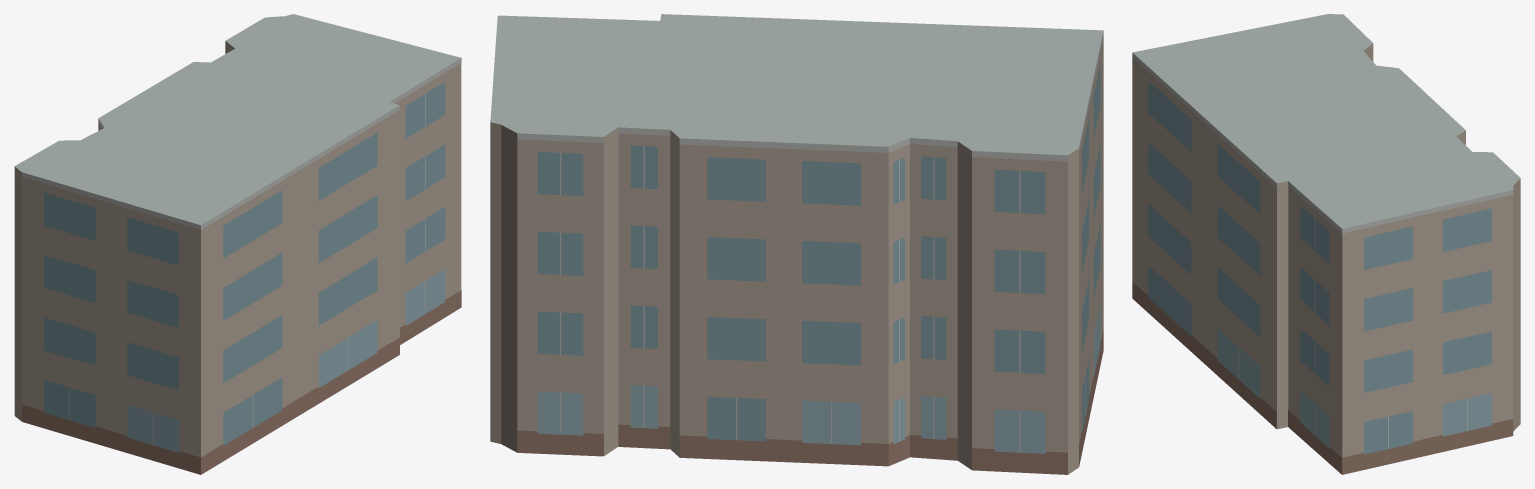
File: survey-upis-32606359.glb
The picture shows the model from 3 angles, left to right: view 1: azimuth 30°, elevation 25°; view 2: azimuth 150°, elevation 25°; view 3: azimuth 270°, elevation 25°; orthographic projection. The views are drawn at different scales.
Visible parts, largest first — view 1: survey-upis-32606359.tmp; view 2: survey-upis-32606359.tmp; view 3: survey-upis-32606359.tmp.
Part boxes in pixels (x1,y1,x2,y2): survey-upis-32606359.tmp: (14, 14, 461, 474); survey-upis-32606359.tmp: (490, 14, 1103, 474); survey-upis-32606359.tmp: (1132, 14, 1520, 474).
Size of the model in its own units: 23.99 by 12.8 by 18.32.
